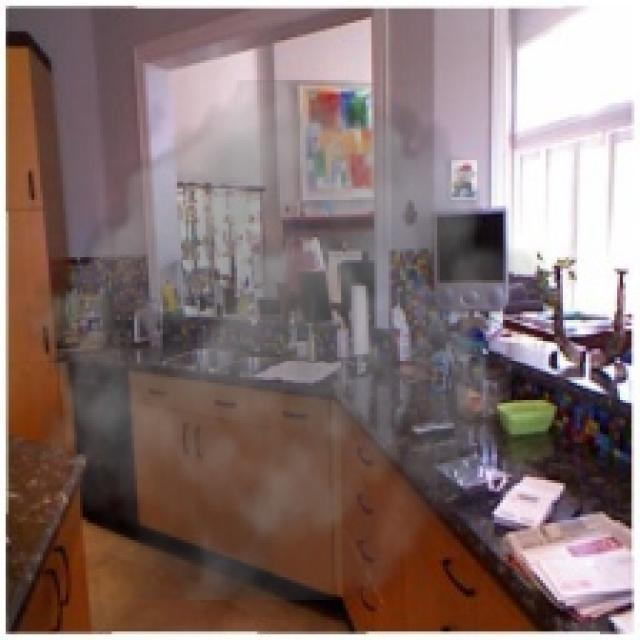smoke: (14, 80, 540, 600)
